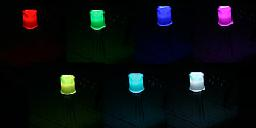LED: (123, 69, 152, 94), (85, 7, 112, 33), (152, 3, 177, 30), (19, 9, 44, 33), (55, 72, 80, 96), (187, 69, 209, 92), (215, 4, 234, 30)
